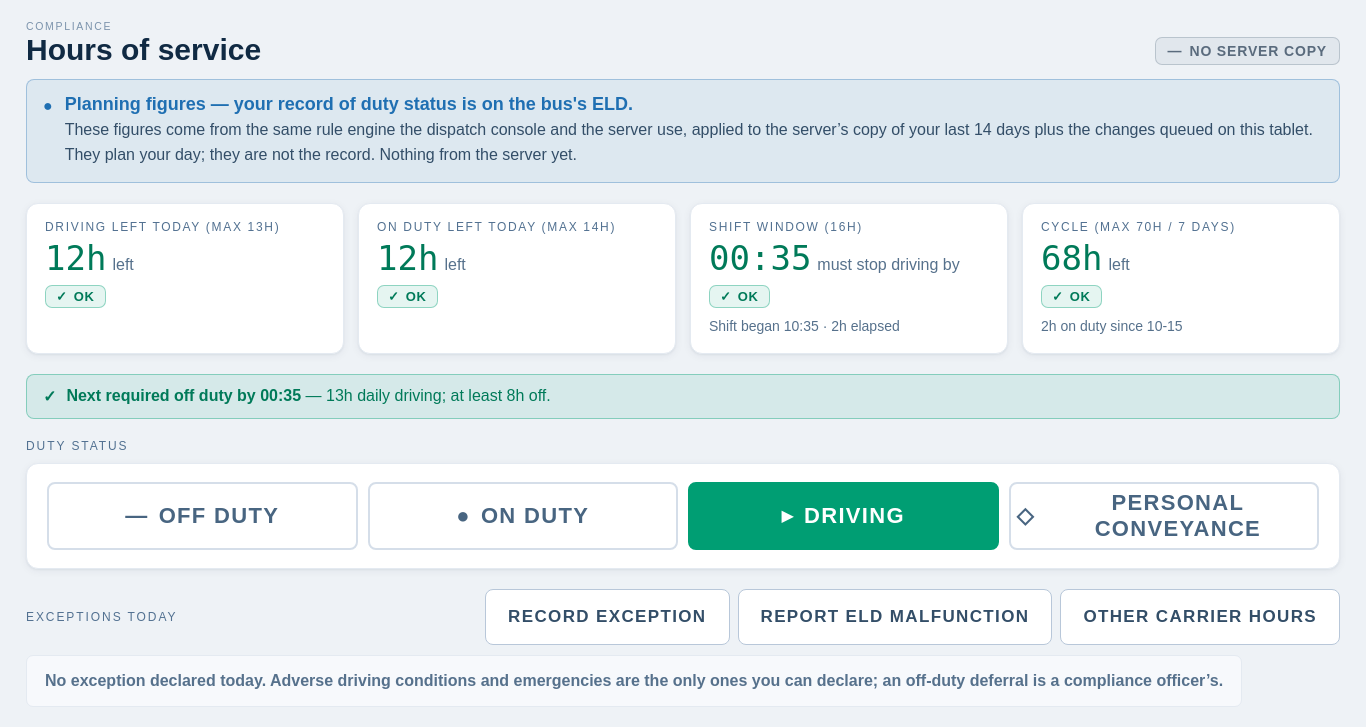
Test: exceptions › adverse conditions: Declare stays off until the s.76 attestation is on and the extension is 1–120 min, then queues hos.exception with the HosWire kind
Click the button "Record exception".
click(607, 617)  # box [485,589,730,645]
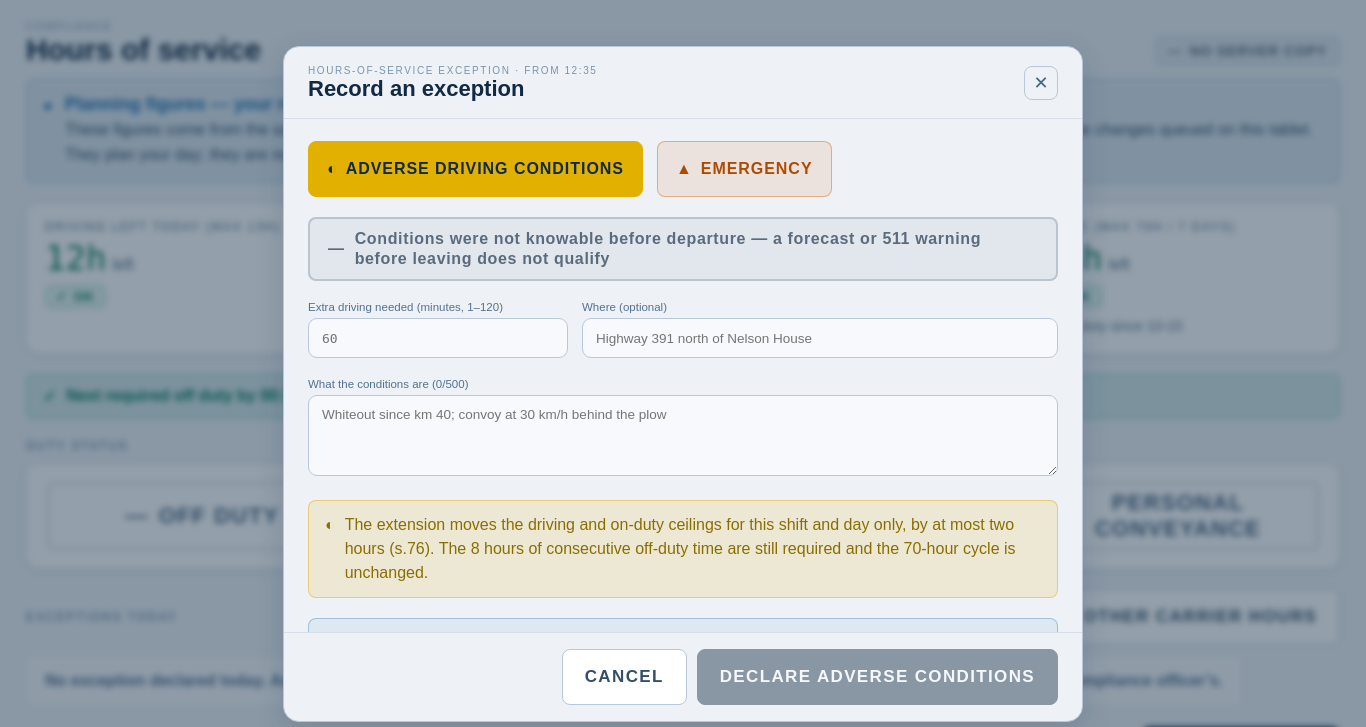
Expected: the button "Declare adverse conditions" is disabled, [697,649,1058,705]
Type "Whiteout on 391" into the text box with placeholder "Whiteout since km 40; convoy at 30 km/h behind the plow".
click(683, 436); type("Whiteout on 391")  # box [308,395,1058,476]
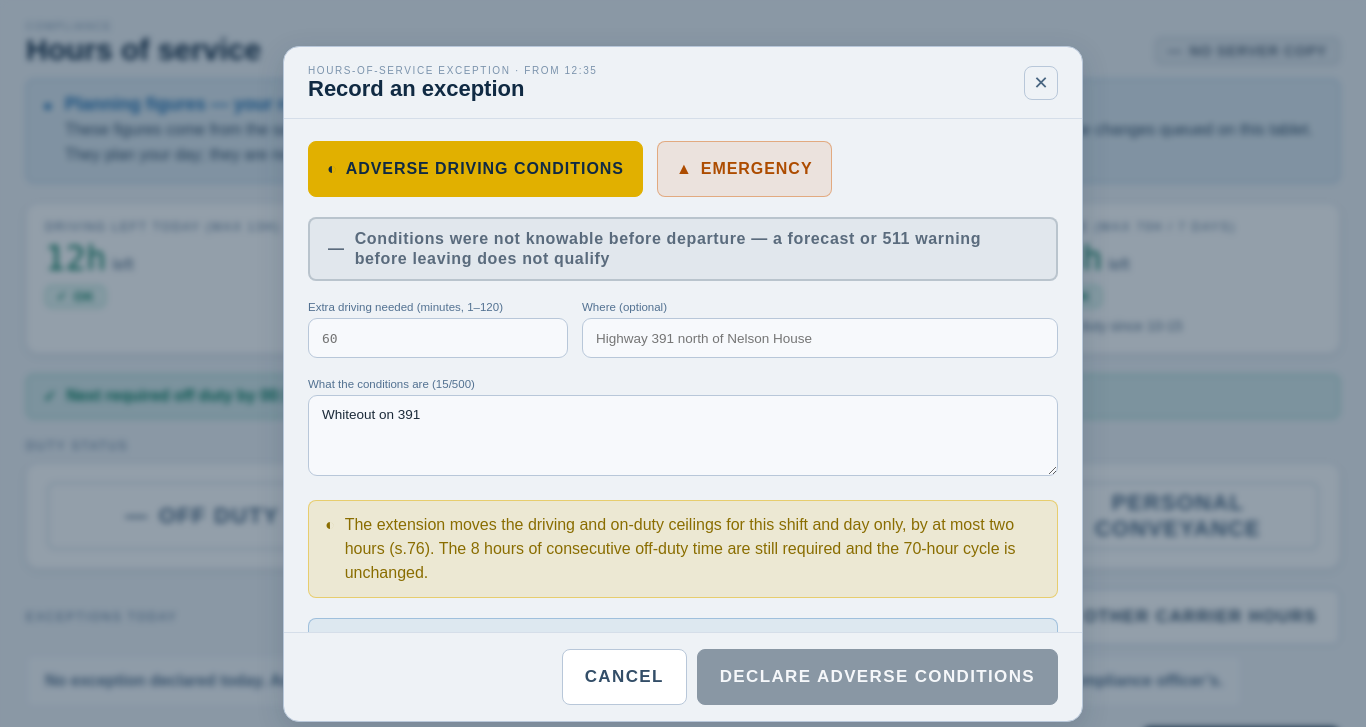
Expected: the button "Declare adverse conditions" is disabled, [697,649,1058,705]
Click the button "Conditions were not knowable before departure".
click(683, 249)  # box [308,217,1058,281]
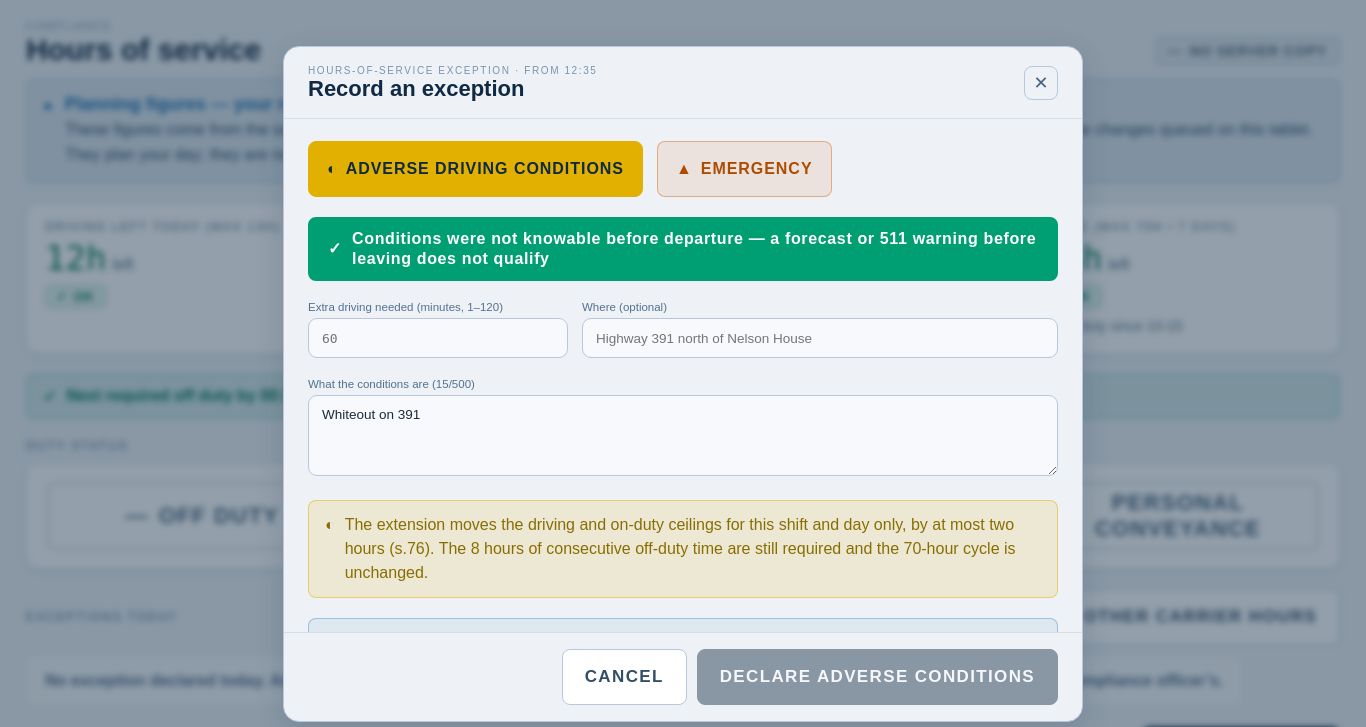
Expected: the button "Declare adverse conditions" is disabled, [697,649,1058,705]
Type "121" into the number field with placeholder "60".
click(438, 338); type("121")  # box [308,318,568,358]
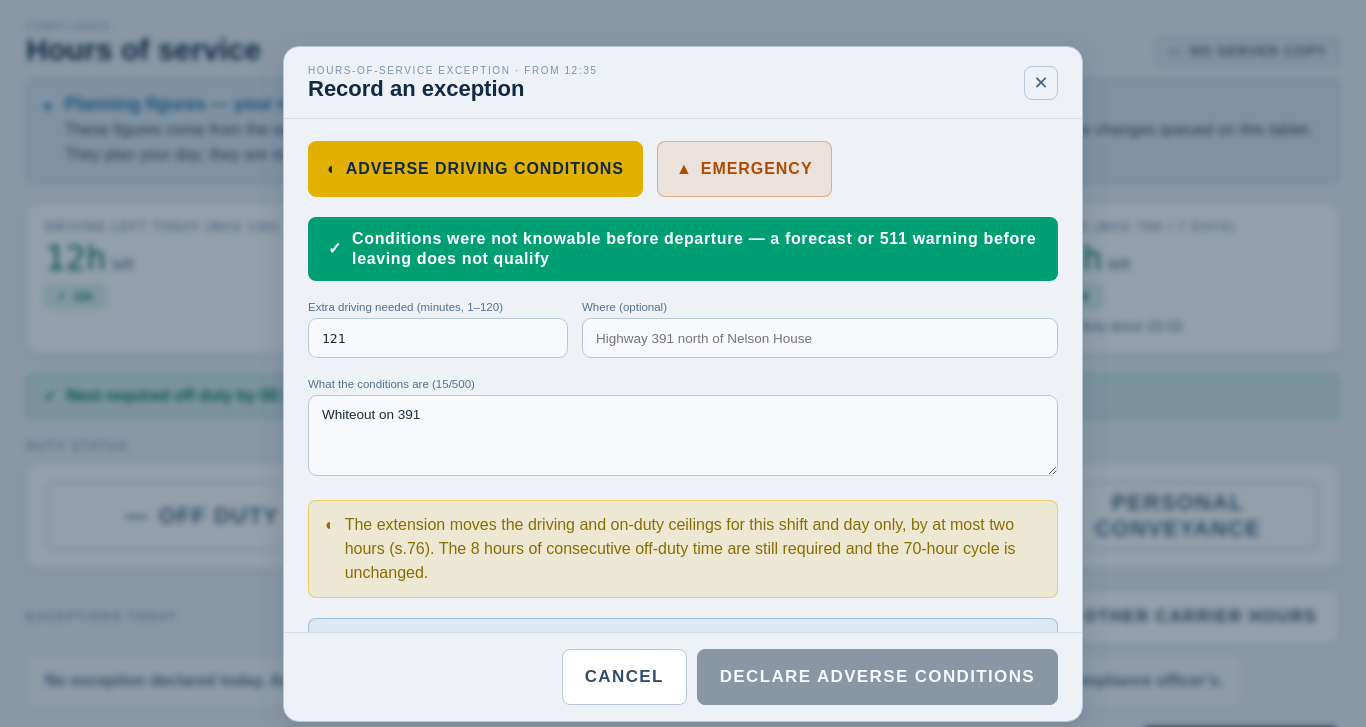
Expected: the button "Declare adverse conditions" is disabled, [697,649,1058,705]
Replace the text in the number field with "90" at x=438, y=338, box [308,318,568,358]
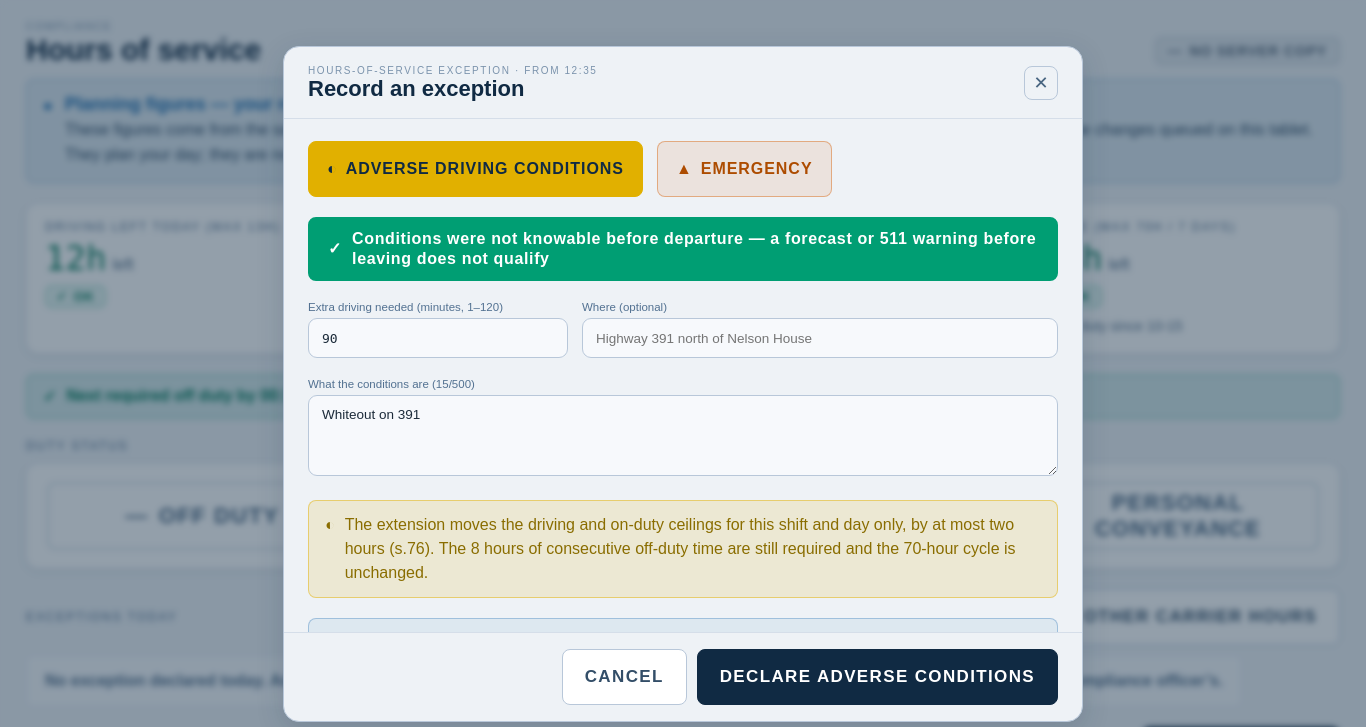
Expected: the text "8 hours of consecutive off-duty time are still required" is shown, [345,516,1016,581]
Expected: the button "Declare adverse conditions" is enabled
Click the button "Declare adverse conditions".
click(877, 677)  # box [697,649,1058,705]
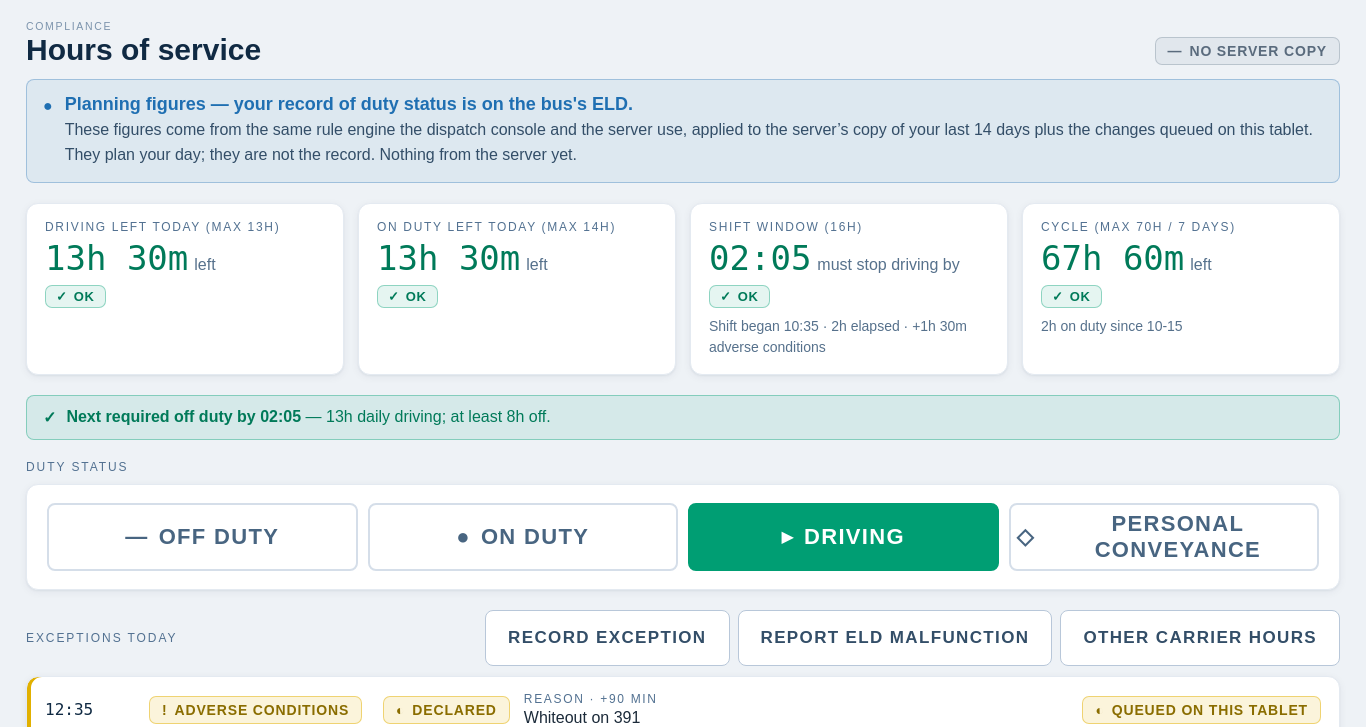
Expected: the text "Queued on this tablet" is shown, [1112,702,1308,718]
Expected: the text "Adverse conditions" is shown, [174,702,349,718]
Expected: the text "Shift began 10:35 · 2h elapsed · +1h 30m adverse conditions" is shown, [709,316,989,358]
